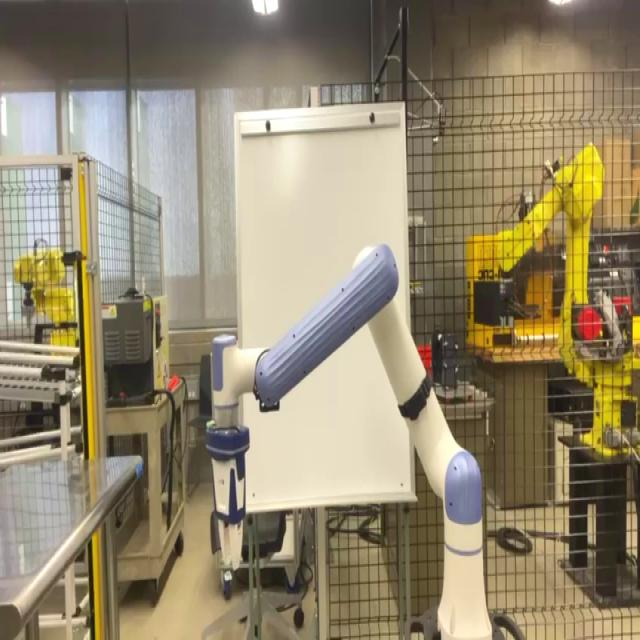robot: (205, 242, 523, 638)
